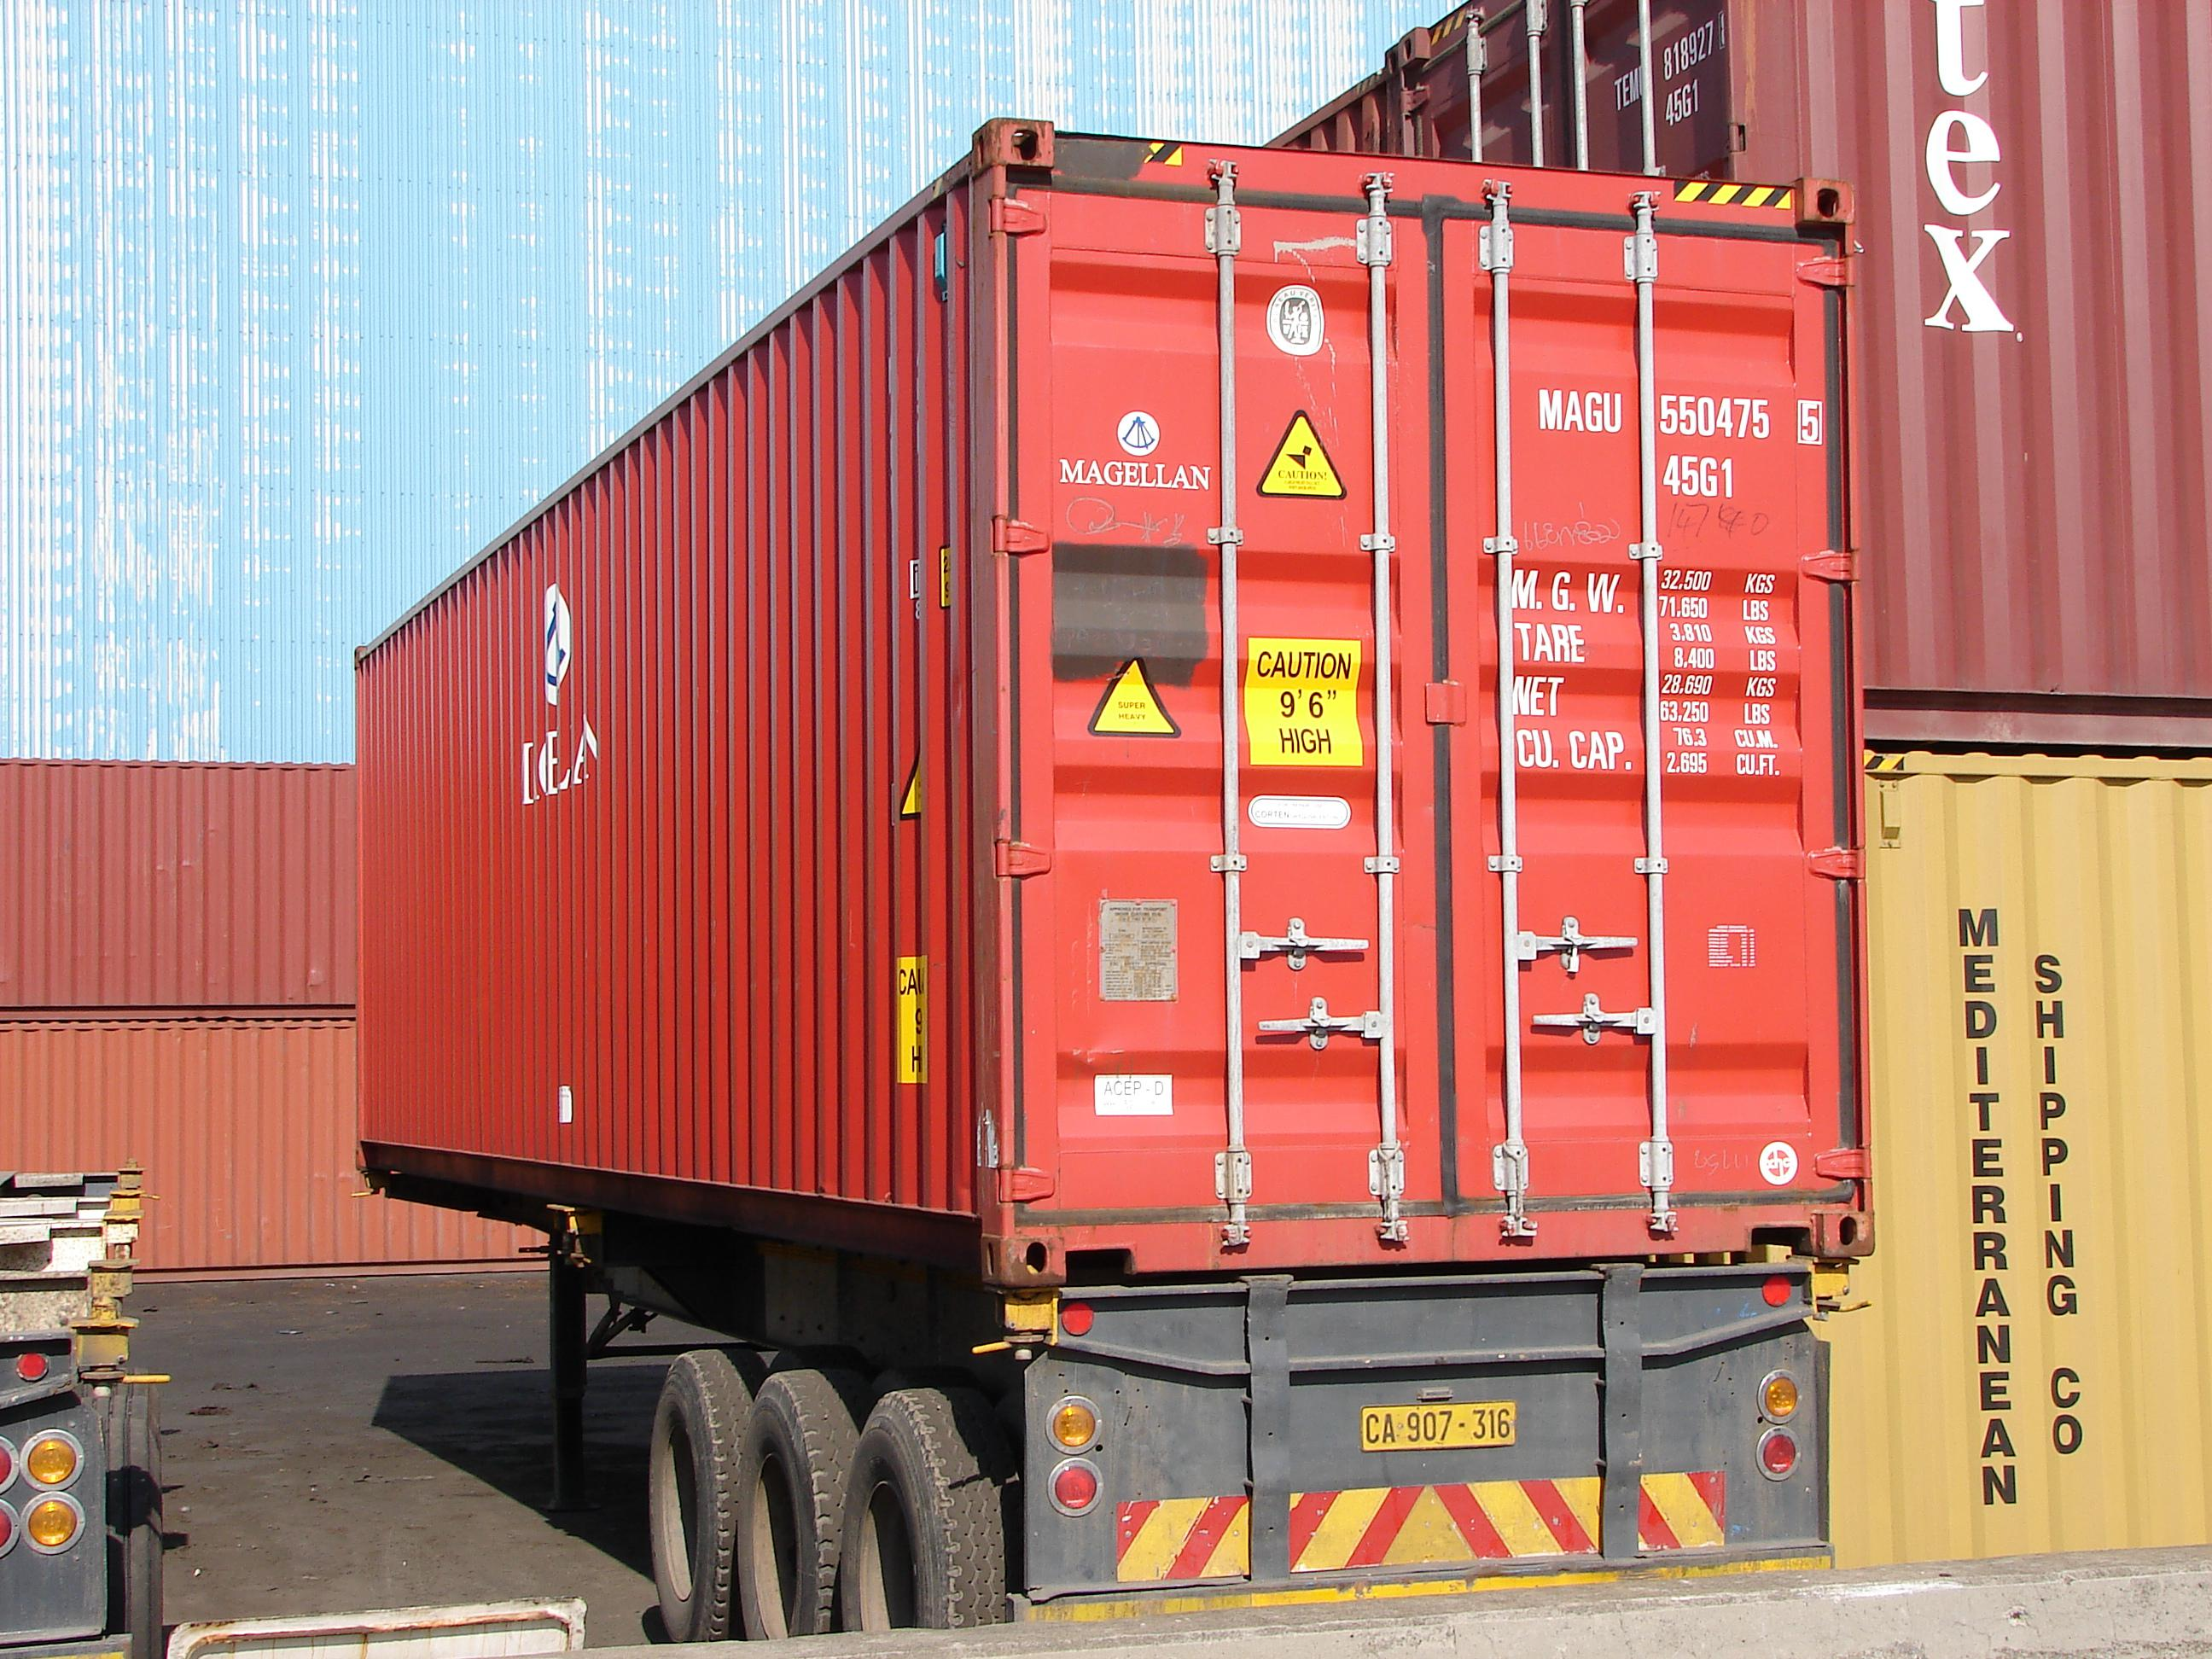ContainerNum: (1533, 380, 1827, 507)
